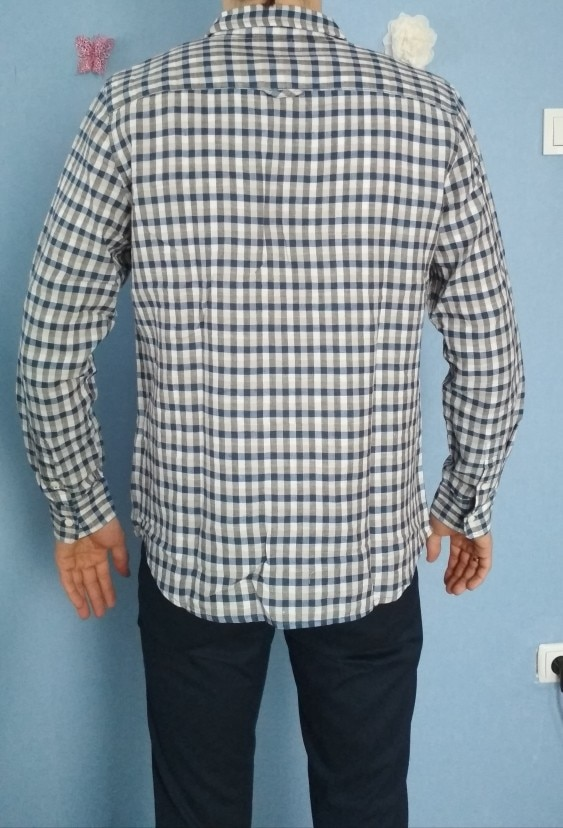shirts: (16, 8, 530, 629)
